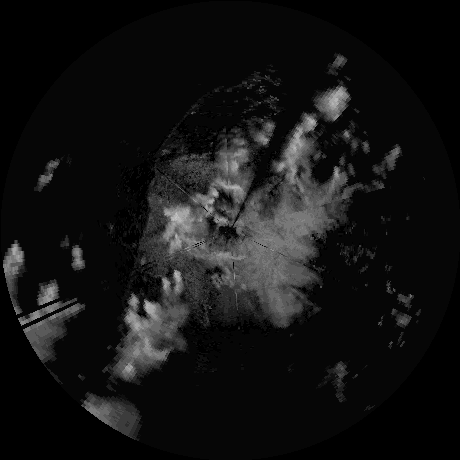frontgust: (161, 75, 272, 154)
